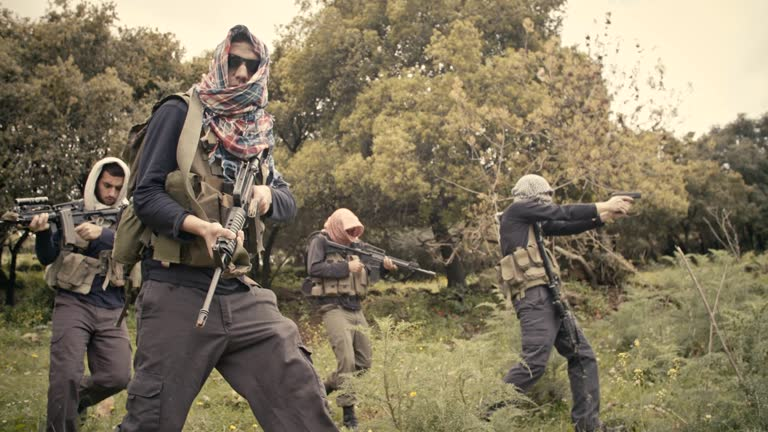terrorist: (185, 17, 292, 142), (492, 165, 580, 239), (308, 200, 386, 260), (70, 149, 136, 214)
